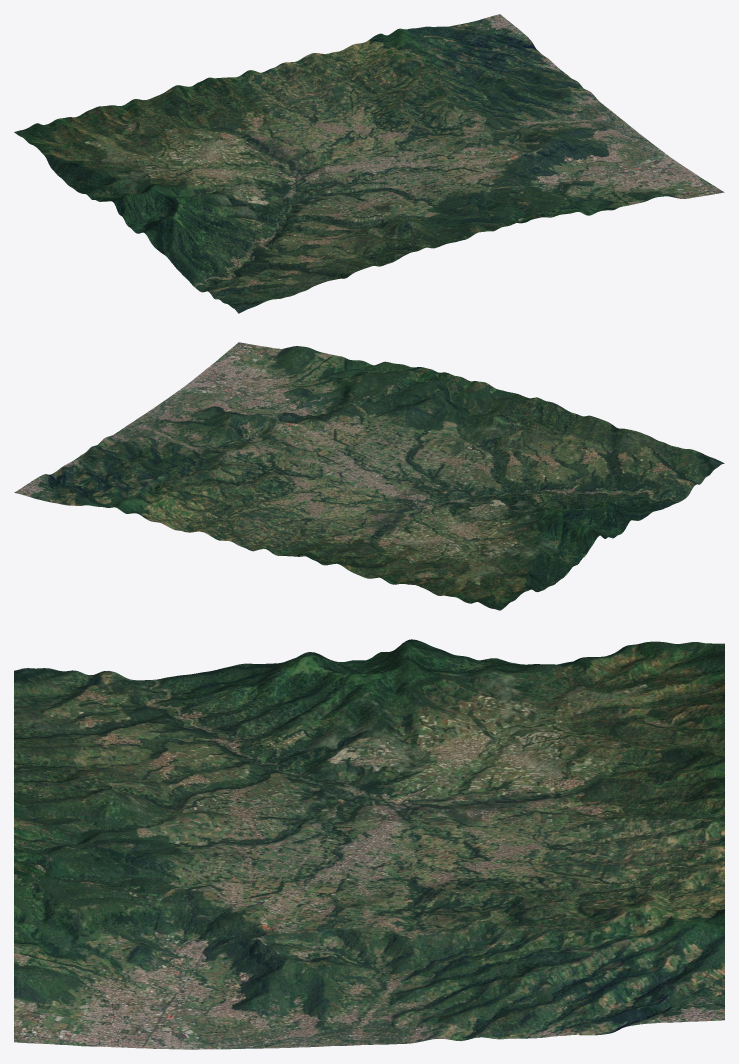
Rendered from 3dmap-pujon-v1.glb.
3 renders of one model, top to bottom at view 1: azimuth 30°, elevation 25°; view 2: azimuth 150°, elevation 25°; view 3: azimuth 270°, elevation 25°, orthographic. The views are drawn at different scales.
Visible parts, largest first — view 1: EXPORT_GOOGLE_SAT_WM; view 2: EXPORT_GOOGLE_SAT_WM; view 3: EXPORT_GOOGLE_SAT_WM.
Boxes of the visible parts, bbox=[...] form: EXPORT_GOOGLE_SAT_WM: bbox=[14, 14, 724, 313]; EXPORT_GOOGLE_SAT_WM: bbox=[14, 342, 724, 610]; EXPORT_GOOGLE_SAT_WM: bbox=[14, 639, 724, 1049].
Size of the model in its own units: 12230 by 812 by 9784.
1 material, 1 textured.
